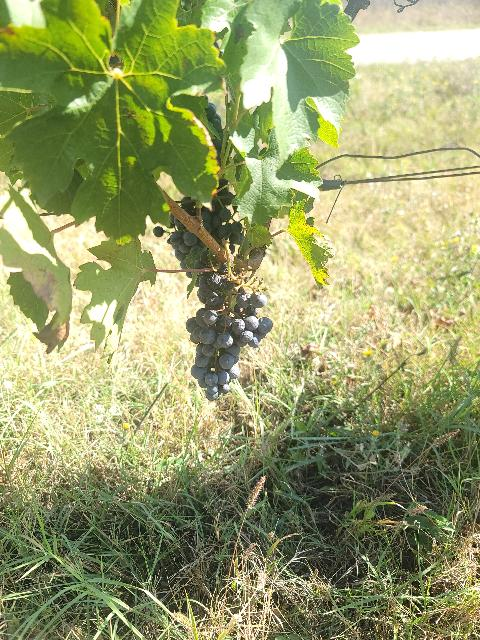grapes: (185, 264, 272, 401)
